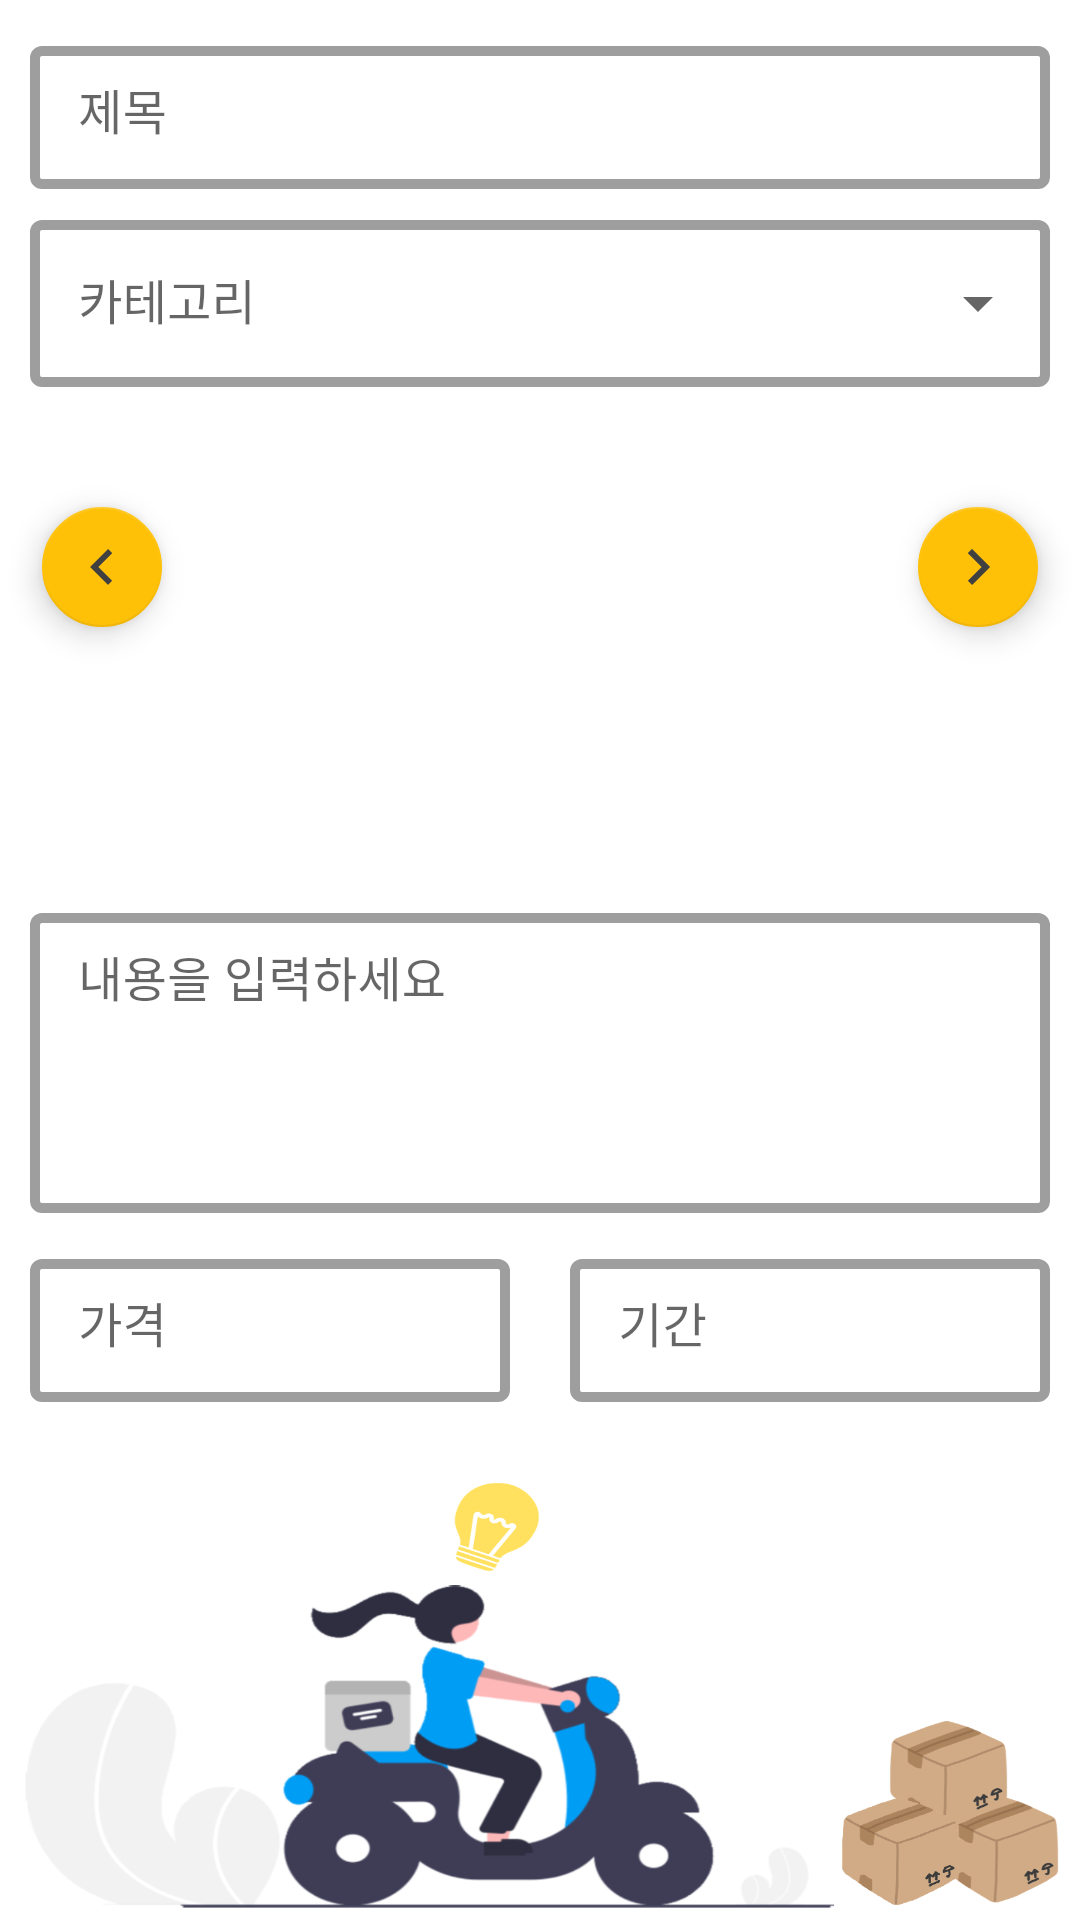

Screen size 1080*1920. Icon name, then its center in pixels as (x=x, y=y):
left: (x=100, y=569)
right: (x=979, y=569)
